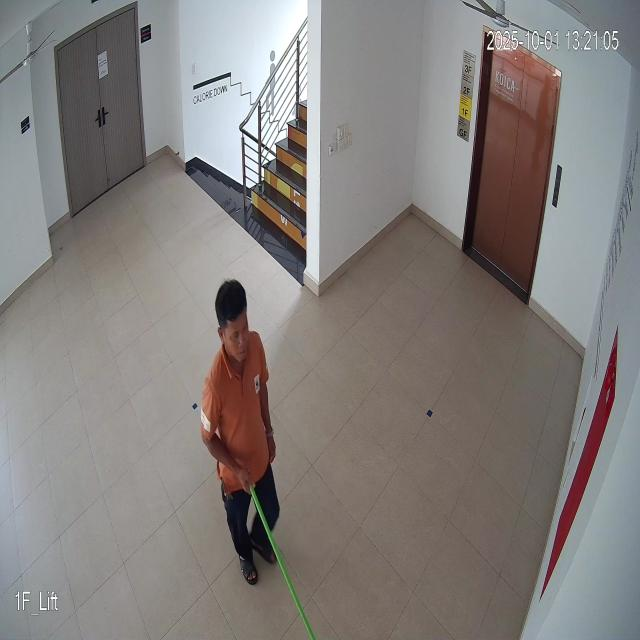face: (212, 269, 253, 376)
